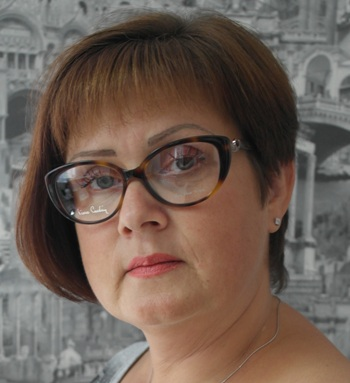glasses: (36, 126, 246, 227)
